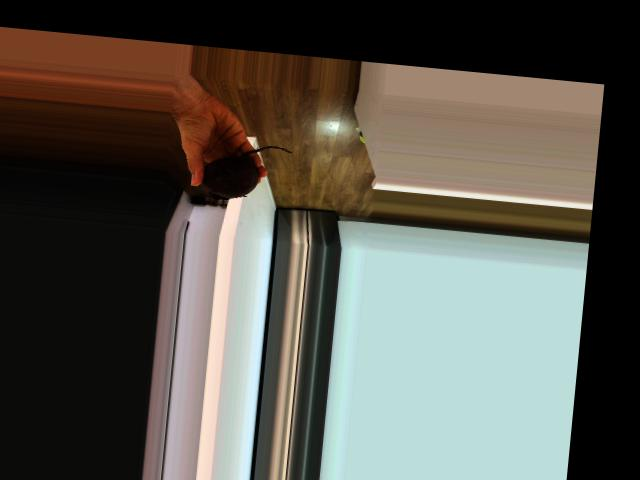beet: (201, 139, 293, 206)
